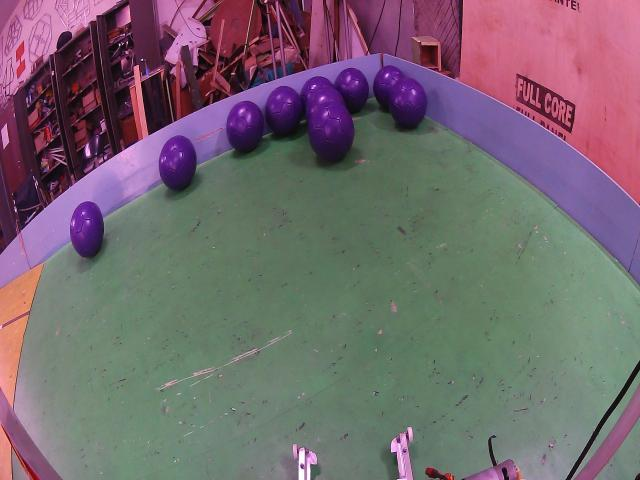jambhalya: (308, 102, 354, 160), (159, 135, 196, 190), (389, 78, 428, 128), (226, 102, 264, 152), (70, 202, 104, 257), (265, 85, 302, 135), (334, 68, 369, 113), (306, 87, 345, 122), (372, 65, 404, 107), (300, 77, 332, 112)
